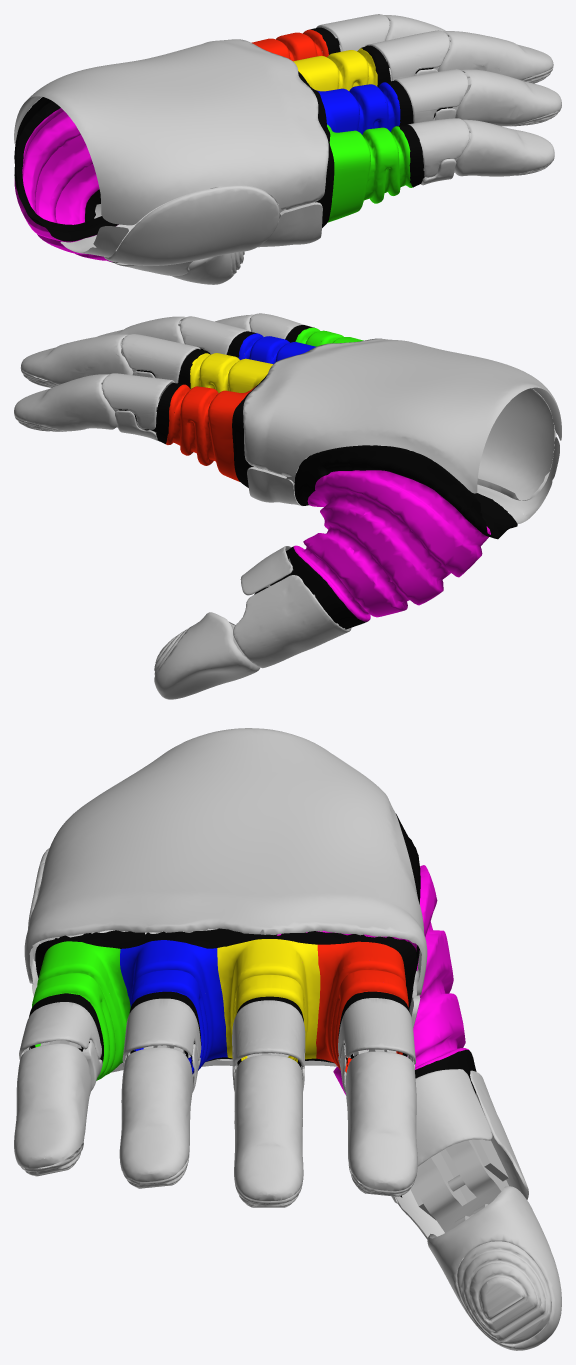
The model's file is festh3_test9.obj.
The picture shows the model from 3 angles, top to bottom: view 1: azimuth 30°, elevation 25°; view 2: azimuth 150°, elevation 25°; view 3: azimuth 270°, elevation 25°; orthographic projection. The views are drawn at different scales.
Visible parts, largest first — view 1: palm_1_part_25, gofra_1_part_12, gofra_2_patr_6, rubber_1_part_23, part_8, part_7, part_9, palm_1_part_24, falangi_2_part_15, falangi_2_part_17, falangi_2_part_13, falangi_2_part_19 (+4 smaller); view 2: palm_1_part_25, gofra_2_patr_6, gofra_1_part_12, rubber_1_part_23, falangi_2_part_21, part_11, part_10, part_9, palm_1_part_24, falangi_2_part_19, falangi_2_part_17, falangi_2_part_15 (+4 smaller); view 3: palm_1_part_25, gofra_1_part_12, part_9, part_10, part_8, part_7, part_5, gofra_2_patr_6, part_11, part_35, falangi_2_part_22, falangi_2_part_17 (+5 smaller).
Part boxes in pixels (x1,y1,x2,y2): palm_1_part_25: [14, 39, 328, 225]; gofra_1_part_12: [251, 27, 452, 227]; gofra_2_patr_6: [14, 97, 118, 262]; rubber_1_part_23: [104, 185, 284, 265]; part_8: [455, 69, 561, 126]; part_7: [454, 119, 554, 176]; part_9: [437, 31, 553, 80]; palm_1_part_24: [60, 188, 322, 257]; falangi_2_part_15: [394, 69, 468, 122]; falangi_2_part_17: [369, 30, 449, 80]; falangi_2_part_13: [408, 118, 469, 177]; falangi_2_part_19: [316, 14, 389, 51]; palm_1_part_25: [243, 338, 561, 493]; gofra_2_patr_6: [254, 445, 517, 629]; gofra_1_part_12: [118, 325, 363, 487]; rubber_1_part_23: [257, 388, 556, 500]; falangi_2_part_21: [233, 575, 351, 668]; part_11: [154, 612, 259, 699]; part_10: [14, 374, 117, 431]; part_9: [20, 334, 133, 384]; palm_1_part_24: [247, 437, 559, 523]; falangi_2_part_19: [102, 373, 174, 429]; falangi_2_part_17: [121, 334, 200, 383]; falangi_2_part_15: [180, 316, 249, 354]; palm_1_part_25: [24, 728, 427, 995]; gofra_1_part_12: [29, 928, 416, 1080]; part_9: [234, 1055, 303, 1201]; part_10: [345, 1051, 417, 1191]; part_8: [119, 1047, 192, 1182]; part_7: [14, 1043, 91, 1168]; part_5: [457, 1241, 550, 1344]; gofra_2_patr_6: [233, 814, 476, 1197]; part_11: [427, 1186, 561, 1350]; part_35: [410, 1139, 508, 1232]; falangi_2_part_22: [391, 1069, 492, 1203]; falangi_2_part_17: [232, 1000, 305, 1069].
Size of the model in its own units: 155 by 90.79 by 102.
